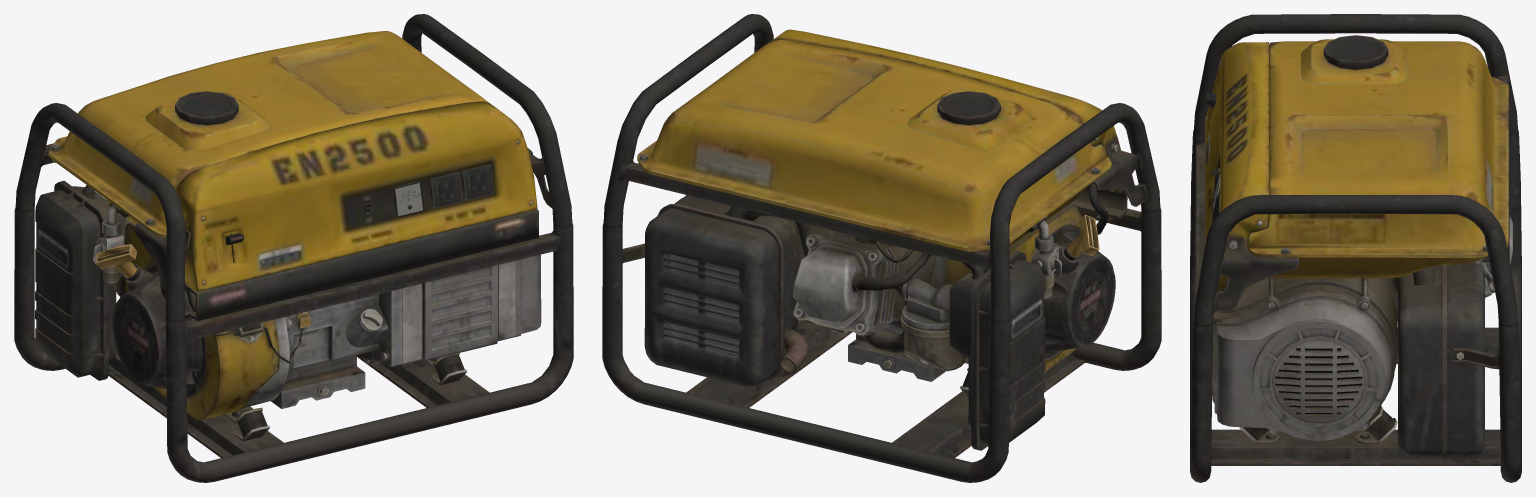
Rendered from generator.glb.
3 views of the same model, side by side, from view 1: azimuth 30°, elevation 25°; view 2: azimuth 150°, elevation 25°; view 3: azimuth 270°, elevation 25° (orthographic).
Visible parts, largest first — view 1: portable_generator; view 2: portable_generator; view 3: portable_generator.
Part boxes in pixels (x1,y1,x2,y2): portable_generator: [14, 14, 573, 482]; portable_generator: [602, 14, 1161, 482]; portable_generator: [1190, 14, 1521, 482].
Bounding box in the file's own units: 0.8183 × 0.577 × 0.564.
2 materials, 2 textured.
